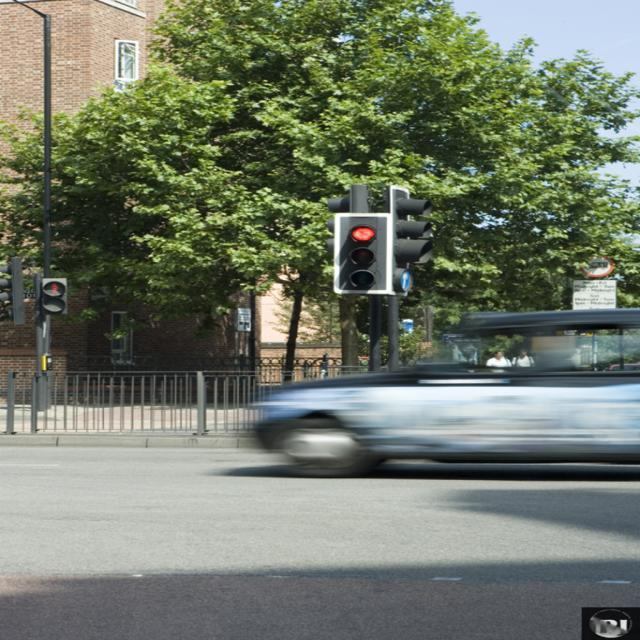off traffic light: (391, 186, 436, 264), (0, 257, 26, 325)
traffic light: (335, 214, 394, 293), (42, 277, 67, 315)
